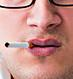smoke: (3, 40, 32, 48)
